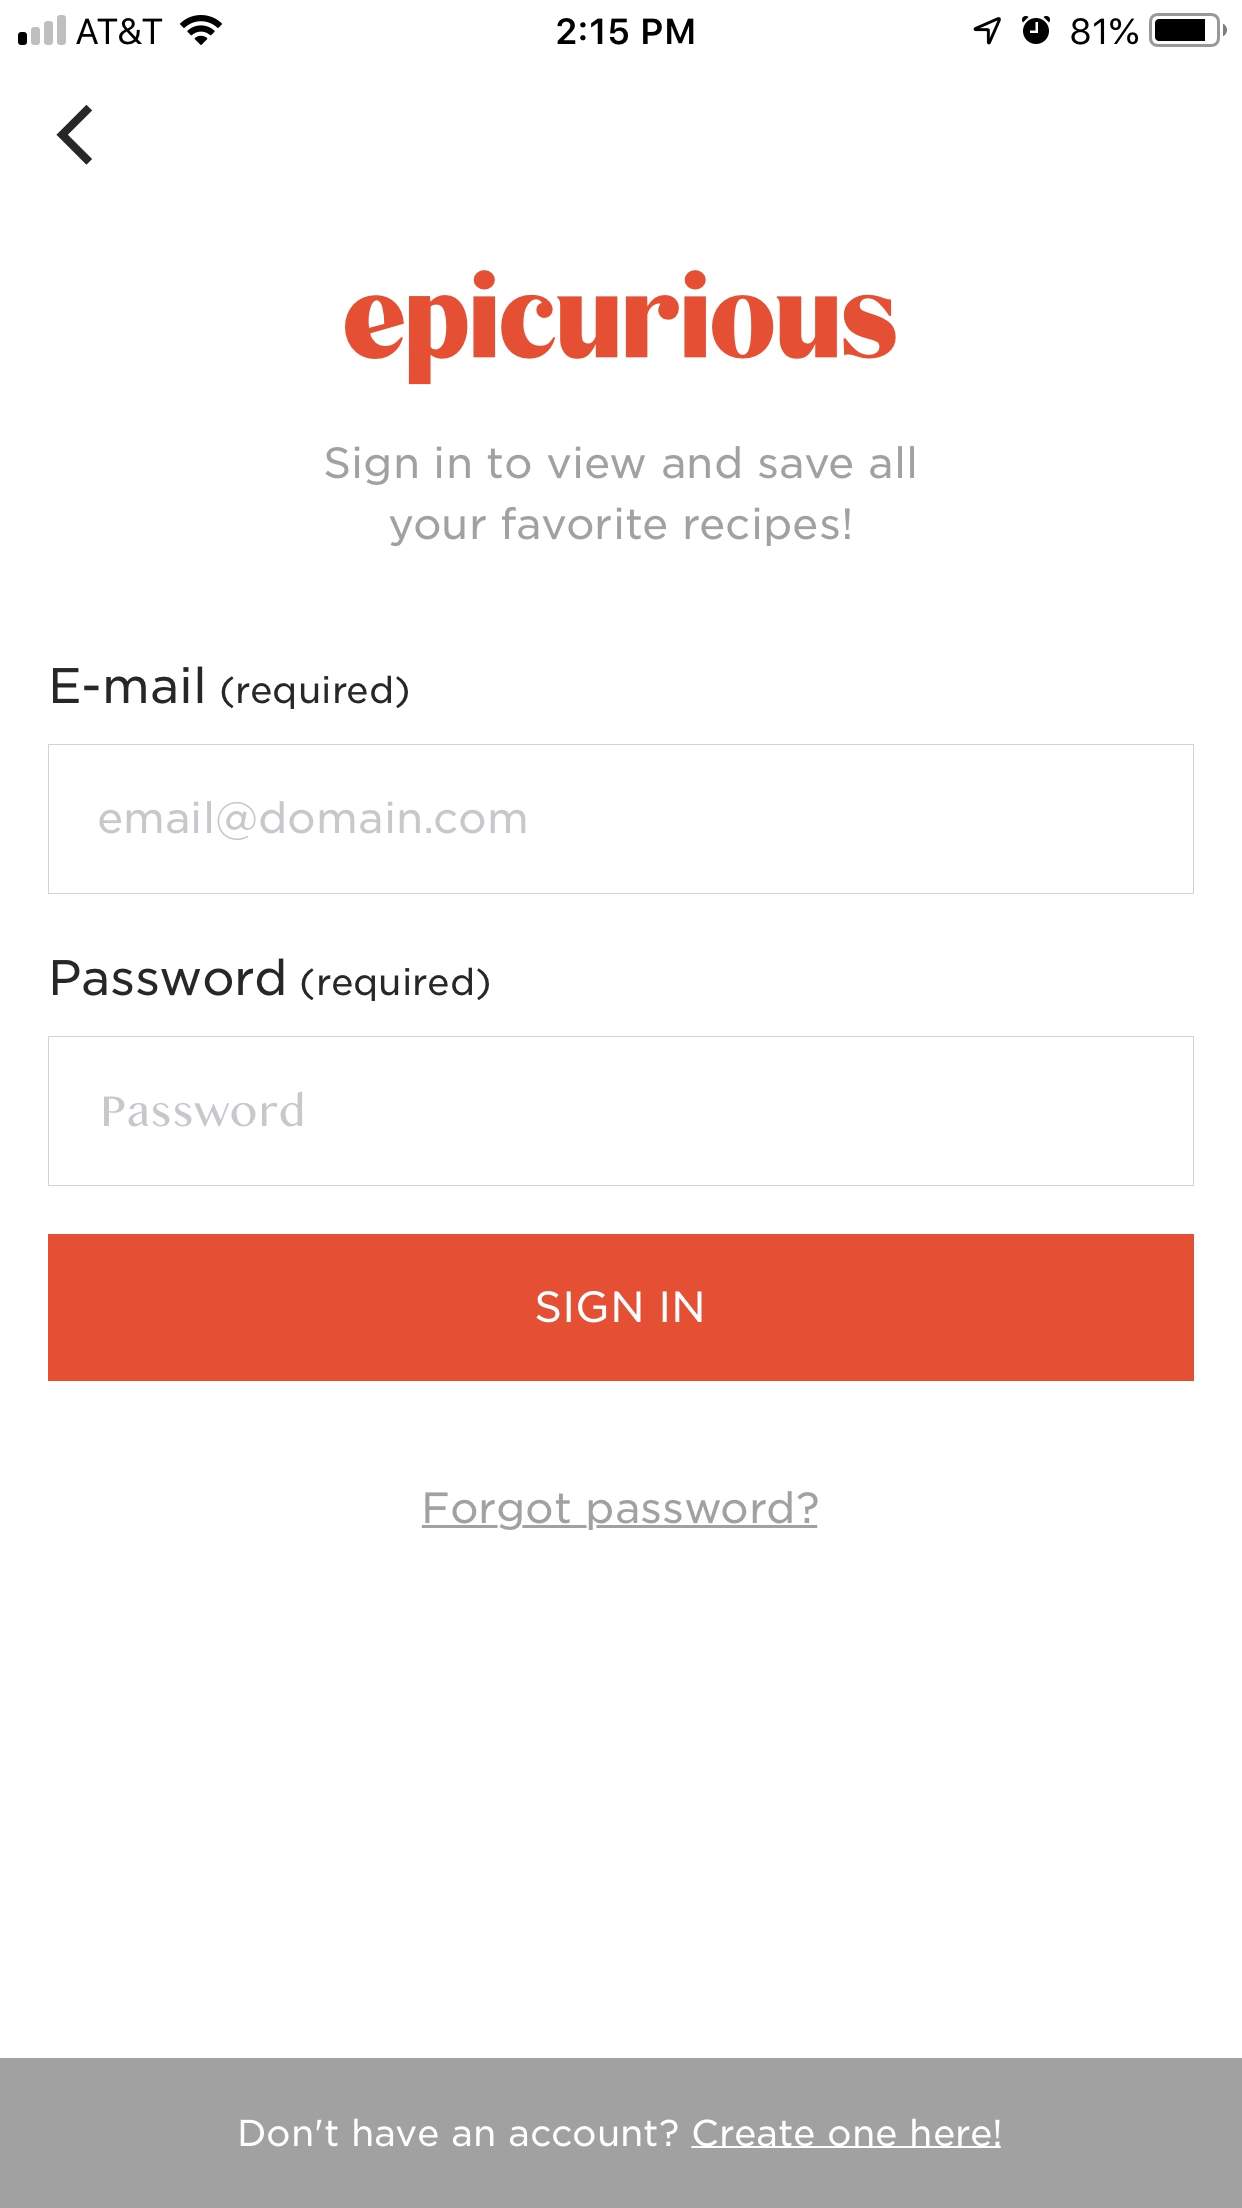EditText: (49, 1036, 1193, 1187), (49, 745, 1193, 895)
Icon: (58, 105, 94, 167)
Text: (346, 270, 898, 387), (325, 444, 914, 547), (53, 957, 490, 1002), (100, 801, 528, 843), (422, 1491, 819, 1532), (55, 666, 409, 710), (105, 1092, 303, 1128)
TextButton: (2, 2058, 1242, 2208), (49, 1234, 1195, 1382)
UpperTaskBar: (2, 2, 1242, 49)
